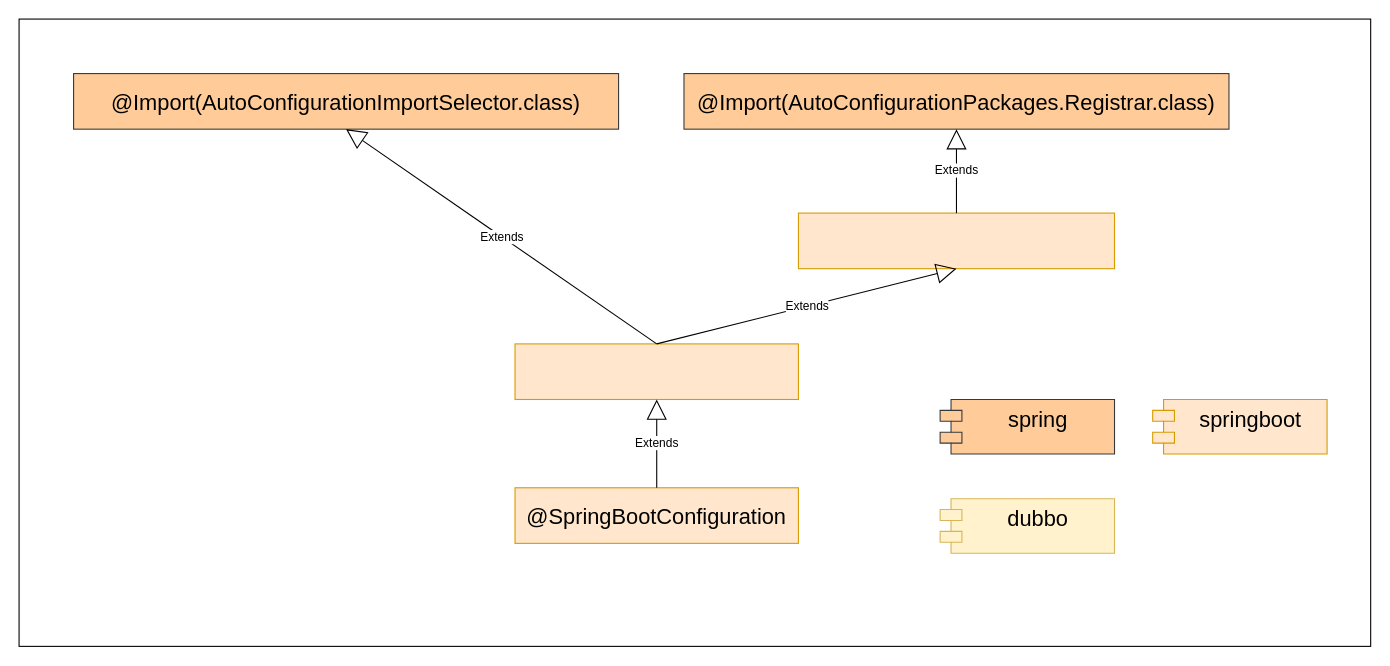
Image size: 1390x666. Some labels were removed from this diagram. The centre of each missing label's shape, as x and y in pixels:
@AutoConfigurationPackage: [956,240]
@EnableAutoConfiguration: [656,371]
